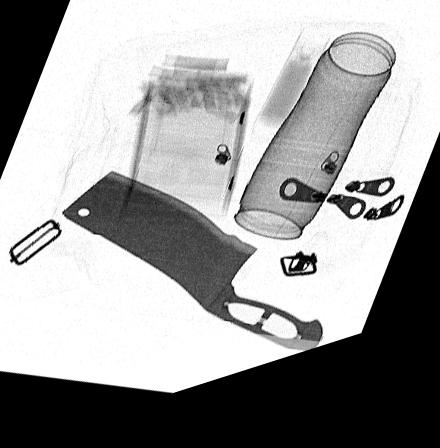Knife: (61, 176, 323, 370)
